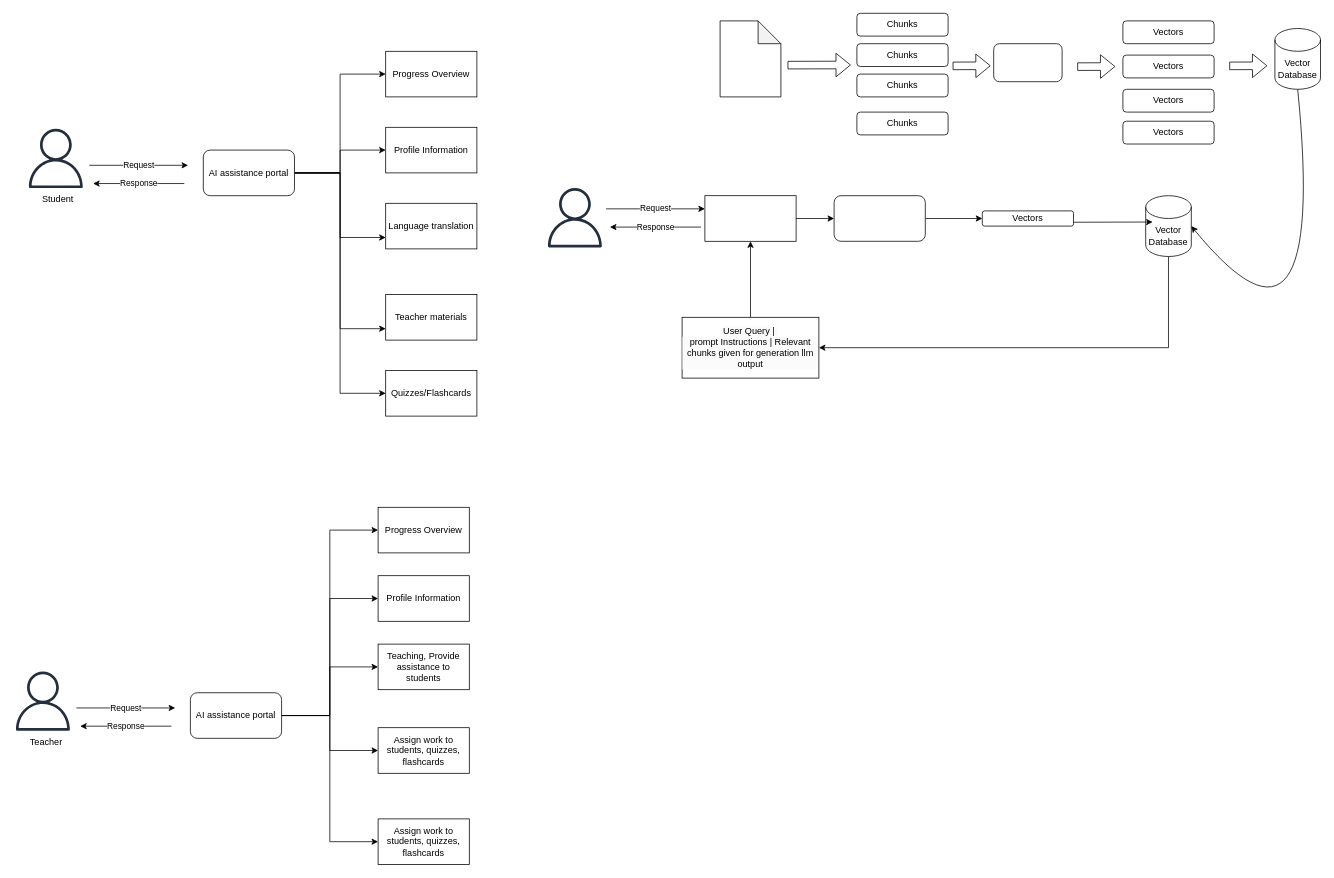
Some shapes in this 1334 by 878 pixel diagram are drawn without their labels. The shapes that lost their labels are listed below. From the top down, each one's centre as x and y in pixels, then its label:
At [750,58]: "Data".
At [1027,62]: "Embedding Model".
At [750,218]: "Large Language Model".
At [879,218]: "User Query | prompt Instructions".
